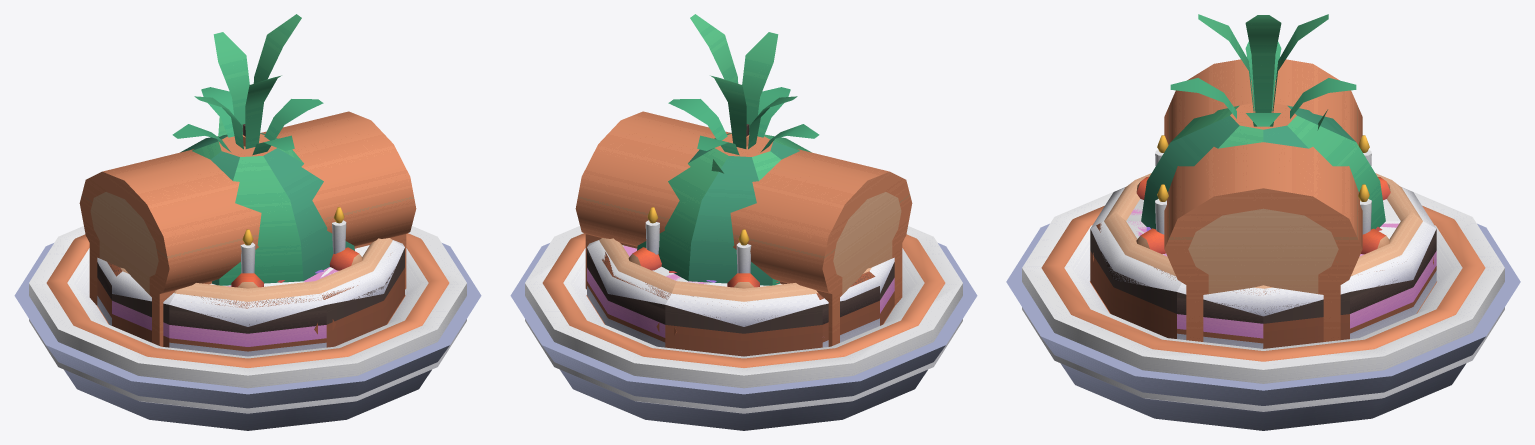
The model's file is food.glb.
3 renders of one model, left to right at view 1: azimuth 30°, elevation 25°; view 2: azimuth 150°, elevation 25°; view 3: azimuth 270°, elevation 25°, orthographic. The views are drawn at different scales.
Parts seen in each view (by area): view 1: slice (×9), loaf, pie, plate-deep, carrot, plate; view 2: slice (×9), loaf, pie, plate-deep, carrot, plate; view 3: slice (×16), loaf, pie, plate-deep, carrot, plate.
Part boxes in pixels (x1,y1,x2,y2): slice (×9): (97, 136, 404, 356); loaf: (79, 111, 416, 346); pie: (14, 233, 481, 430); plate-deep: (29, 226, 466, 388); carrot: (172, 14, 323, 155); plate: (29, 319, 466, 413); slice (×9): (587, 136, 894, 356); loaf: (575, 111, 912, 346); pie: (510, 233, 977, 430); plate-deep: (525, 226, 962, 388); carrot: (668, 14, 819, 155); plate: (525, 319, 962, 413); slice (×16): (1090, 105, 1436, 348); loaf: (1164, 59, 1362, 341); pie: (1006, 205, 1520, 430); plate-deep: (1022, 187, 1504, 383); carrot: (1170, 14, 1356, 126); plate: (1022, 307, 1504, 411).
Size of the model in its own units: 0.9504 by 0.7163 by 0.9504.
Materials: 1 (1 with a texture image).
